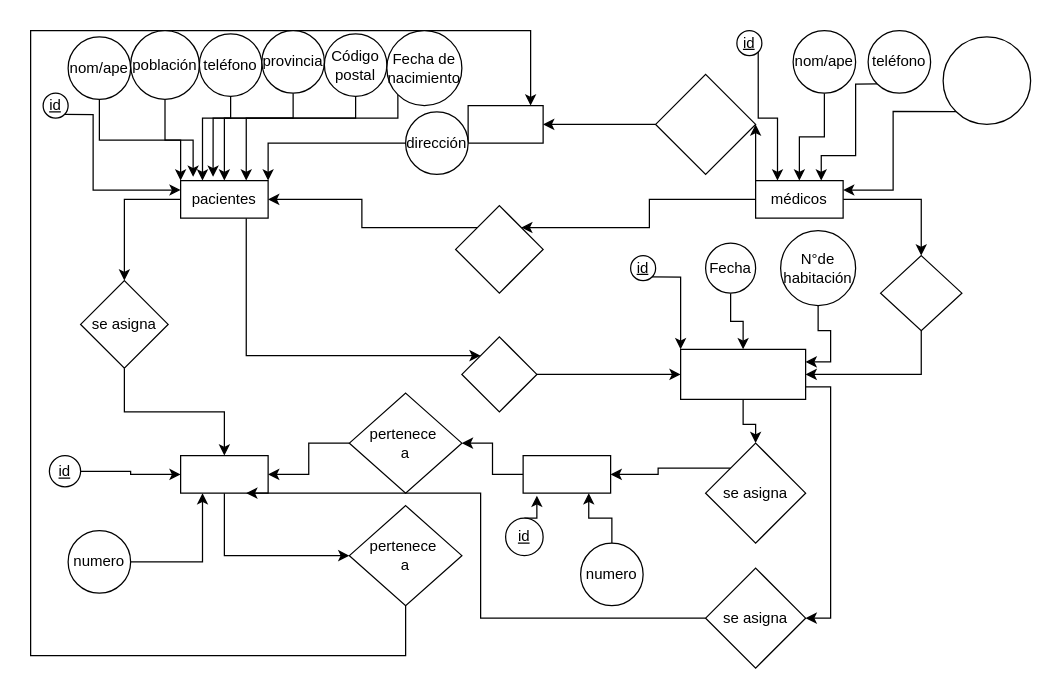
Image size: 1053x690. Some labels were removed from this diagram. The shapes that lost their labels are listed below. From the top down, each one's box as (x1, y1, x2, y2) in pixels, then its label:
(942, 36, 1031, 124): especialidad
(467, 104, 543, 143): hospital
(654, 73, 756, 174): trabaja
(454, 204, 543, 293): atiende
(879, 254, 962, 331): maneja
(461, 336, 537, 412): realiza
(679, 348, 806, 399): ingreso/egreso
(179, 454, 268, 493): sala
(522, 454, 611, 493): Camas
